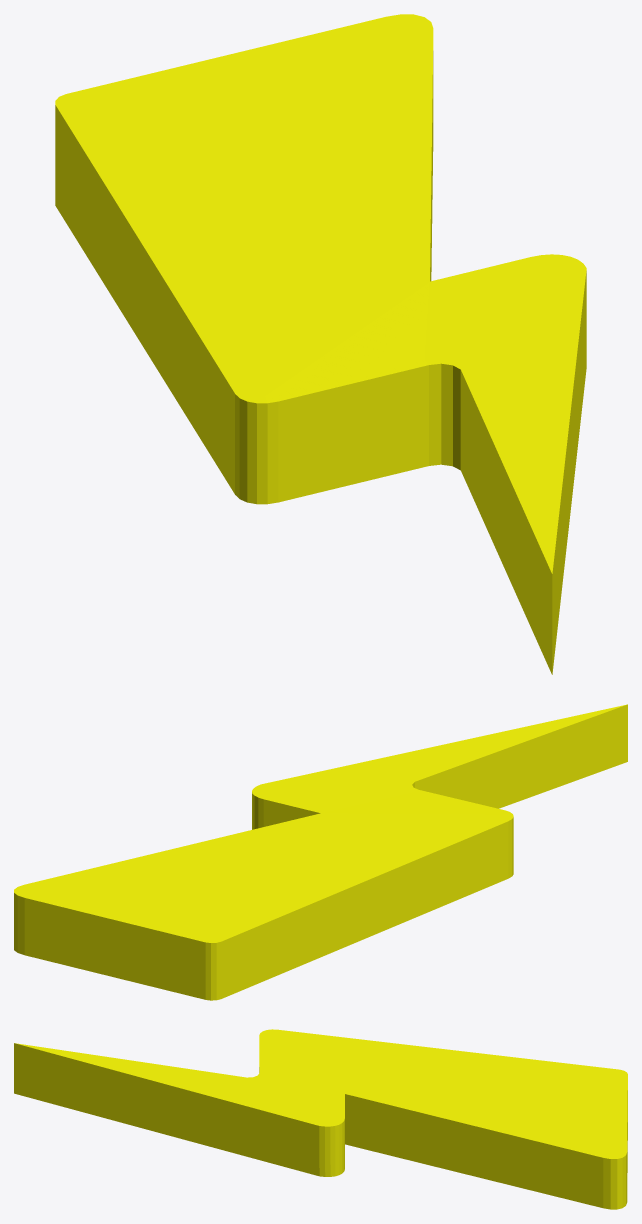
The model's file is knockup.glb.
The picture shows the model from 3 angles, top to bottom: view 1: azimuth 30°, elevation 25°; view 2: azimuth 150°, elevation 25°; view 3: azimuth 270°, elevation 25°; orthographic projection. The views are drawn at different scales.
Visible parts, largest first — view 1: Cube; view 2: Cube; view 3: Cube.
Part boxes in pixels (x1,y1,x2,y2): Cube: [55, 14, 586, 674]; Cube: [14, 704, 627, 1000]; Cube: [14, 1029, 627, 1209].
Bounding box in the file's own units: 4.17 × 0.7644 × 8.37.
